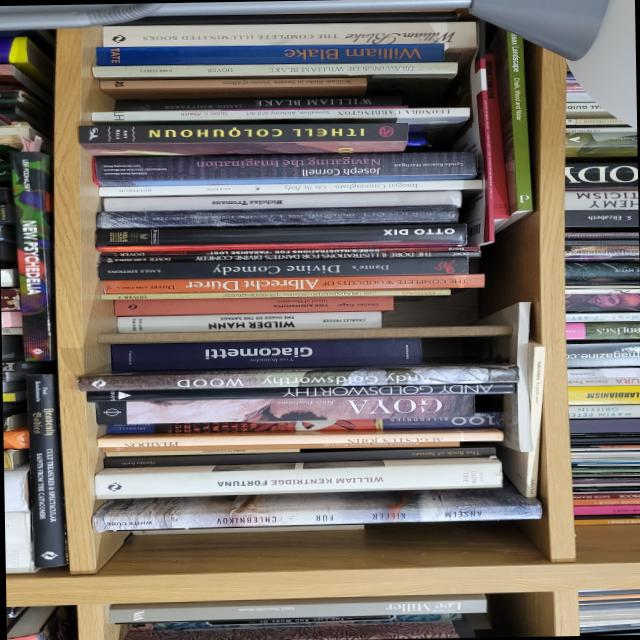book: (89, 482, 541, 532), (93, 455, 501, 499), (101, 18, 478, 64), (90, 150, 475, 186), (76, 362, 517, 392), (77, 120, 408, 157), (95, 394, 473, 424), (109, 336, 421, 372), (94, 221, 465, 250), (484, 27, 534, 231), (102, 443, 494, 469), (10, 150, 54, 362), (447, 57, 495, 247), (94, 204, 458, 229), (21, 372, 67, 568), (97, 256, 468, 280), (101, 272, 484, 295), (86, 382, 515, 402), (102, 190, 460, 213), (95, 428, 502, 448), (95, 43, 444, 66), (90, 106, 468, 125), (91, 61, 456, 80), (98, 178, 482, 196), (96, 241, 479, 258), (99, 247, 479, 263), (476, 53, 510, 227), (113, 295, 393, 316), (115, 310, 380, 332), (100, 441, 458, 454), (114, 95, 401, 111), (100, 288, 451, 301), (379, 412, 502, 430), (296, 81, 298, 83)
